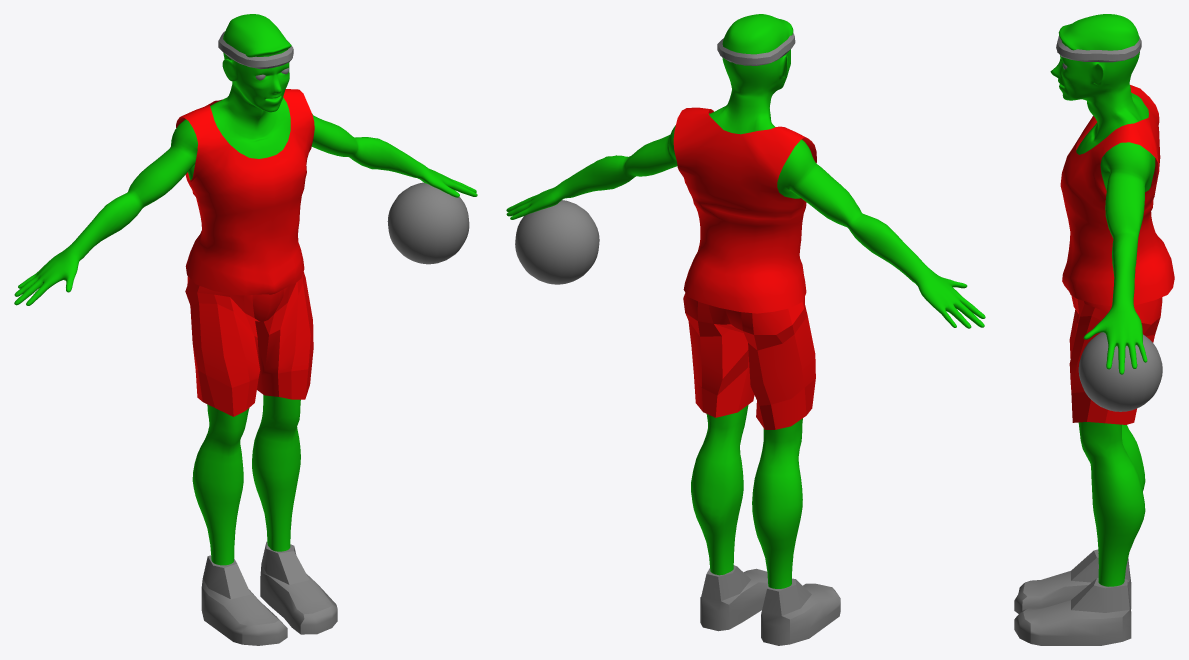
File: TestOfExistingTextures.obj
The picture shows the model from 3 angles, left to right: view 1: azimuth 30°, elevation 25°; view 2: azimuth 150°, elevation 25°; view 3: azimuth 270°, elevation 25°; orthographic projection. The views are drawn at different scales.
Visible parts, largest first — view 1: GenericMesh1, GenericMesh4, GenericMesh5, pSphere3, pCube2 pCube1, pCube3, pPipe1; view 2: GenericMesh1, GenericMesh4, GenericMesh5, pSphere3, pCube2 pCube1, pCube3, pPipe1; view 3: GenericMesh1, GenericMesh4, pCube3, pSphere3, GenericMesh5, pCube2 pCube1, pPipe1.
Boxes of the visible parts, x1,y1,x2,y2 form: GenericMesh1: [14, 14, 477, 565]; GenericMesh4: [176, 89, 314, 295]; GenericMesh5: [185, 272, 313, 416]; pSphere3: [387, 182, 469, 264]; pCube2 pCube1: [201, 555, 287, 645]; pCube3: [260, 541, 337, 634]; pPipe1: [218, 31, 293, 69]; GenericMesh1: [506, 14, 985, 588]; GenericMesh4: [673, 107, 816, 313]; GenericMesh5: [683, 293, 815, 429]; pSphere3: [515, 200, 599, 284]; pCube2 pCube1: [761, 578, 840, 645]; pCube3: [700, 565, 767, 631]; pPipe1: [717, 33, 795, 65]; GenericMesh1: [1050, 14, 1155, 586]; GenericMesh4: [1060, 85, 1174, 306]; pCube3: [1014, 578, 1131, 645]; pSphere3: [1078, 332, 1162, 411]; GenericMesh5: [1069, 295, 1162, 424]; pCube2 pCube1: [1014, 549, 1131, 613]; pPipe1: [1056, 36, 1141, 62].
Bounding box in the file's own units: 29.33 × 35.68 × 8.62.
